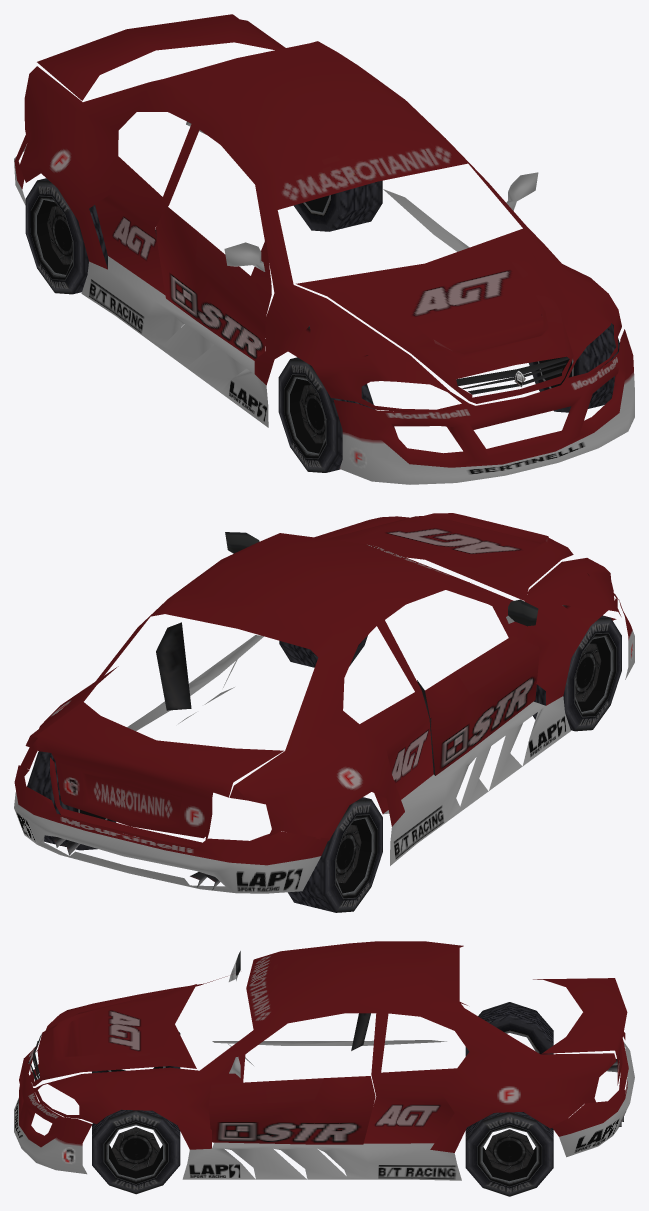
Rendered from car-CUPE_Car9.glb.
3 views of the same model, one above another, from view 1: azimuth 30°, elevation 25°; view 2: azimuth 150°, elevation 25°; view 3: azimuth 270°, elevation 25° (orthographic). The views are drawn at different scales.
Visible parts, largest first — view 1: CUPE_Car9; view 2: CUPE_Car9; view 3: CUPE_Car9.
Boxes of the visible parts, x1,y1,x2,y2 form: CUPE_Car9: (14,14,634,484); CUPE_Car9: (14,513,634,912); CUPE_Car9: (14,941,634,1196).
Size of the model in its own units: 2.05 by 1.45 by 4.64.
Materials: 19 (19 with a texture image).
